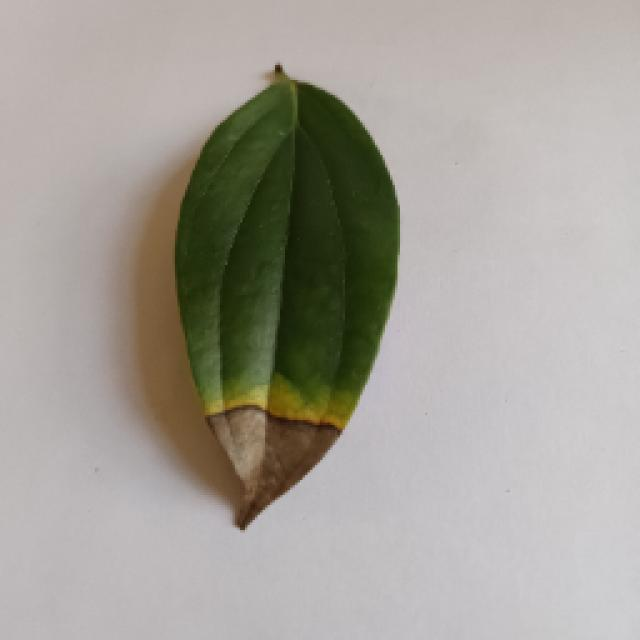footrot: (150, 60, 408, 530)
